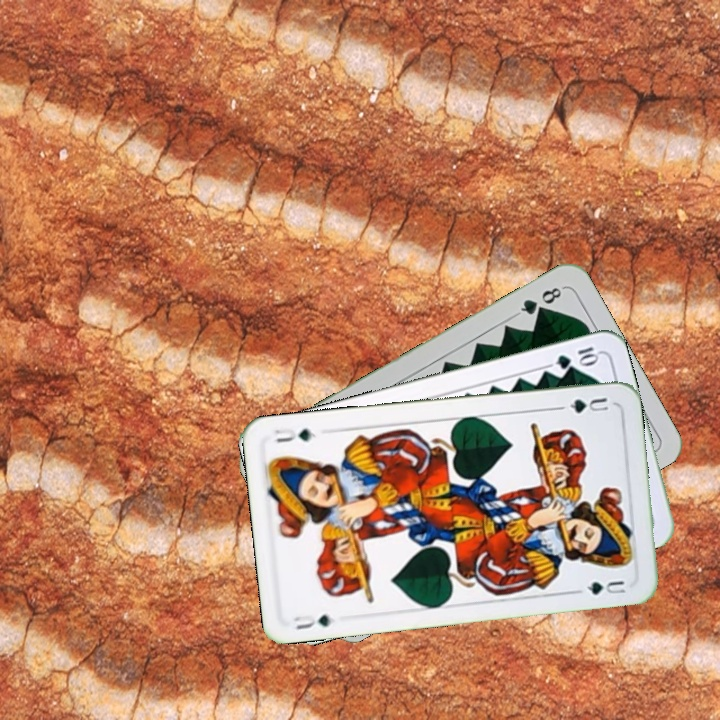G10: (552, 342, 603, 372)
G8: (512, 283, 566, 318)
GU: (556, 393, 611, 416), (289, 610, 338, 633)
